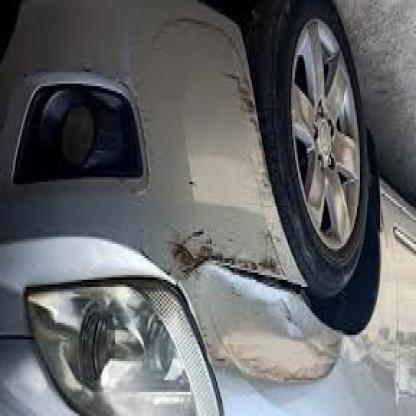dent: (209, 286, 334, 394)
